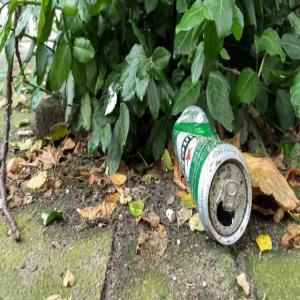Can: (173, 106, 254, 248)
